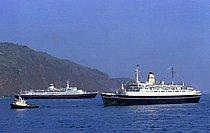Ship: (100, 73, 206, 109)
